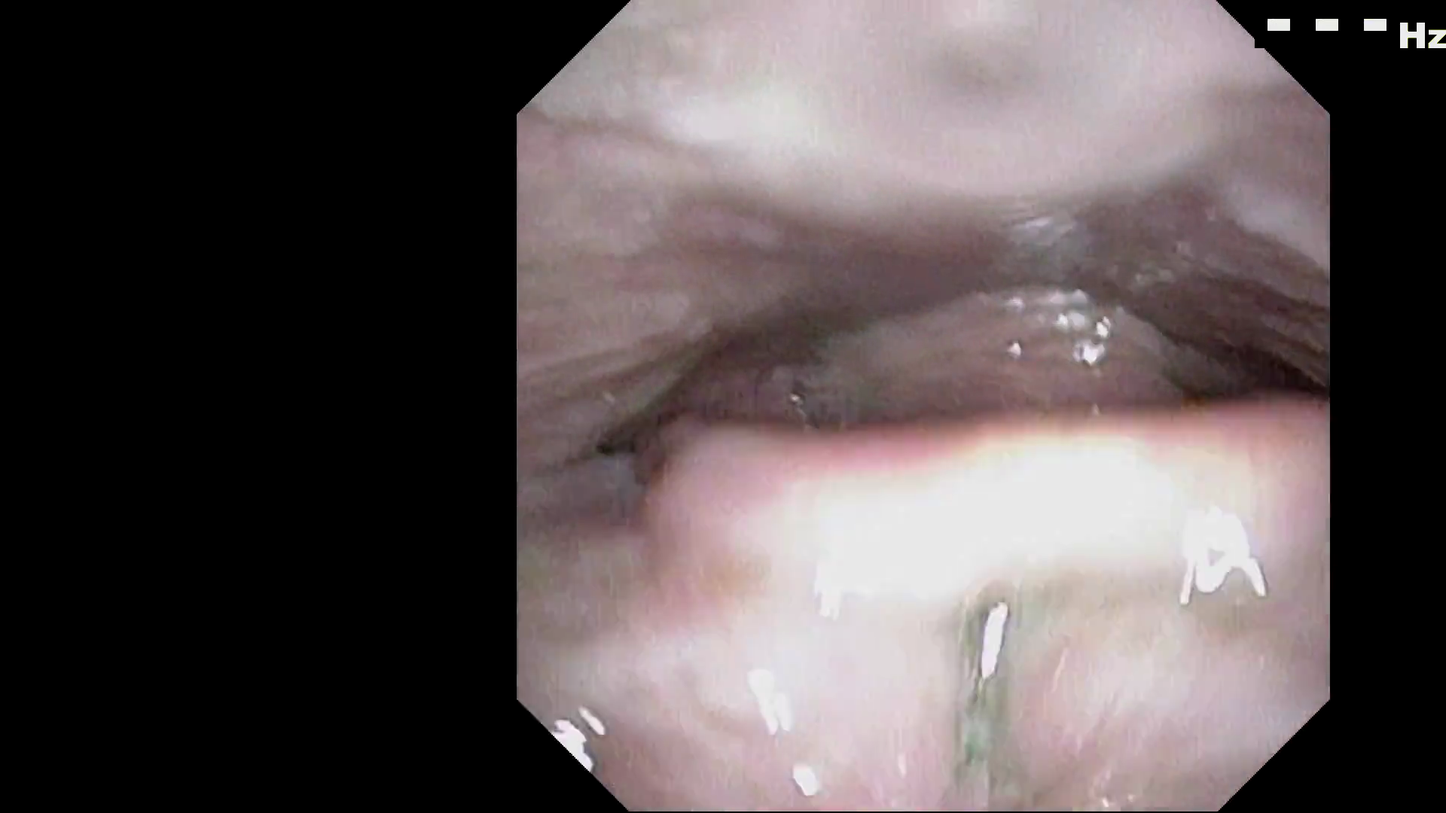epiglottis: (725, 496, 1274, 664)
